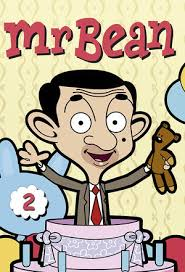mrbean: (17, 69, 152, 222)
